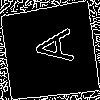A: (24, 26, 74, 68)
